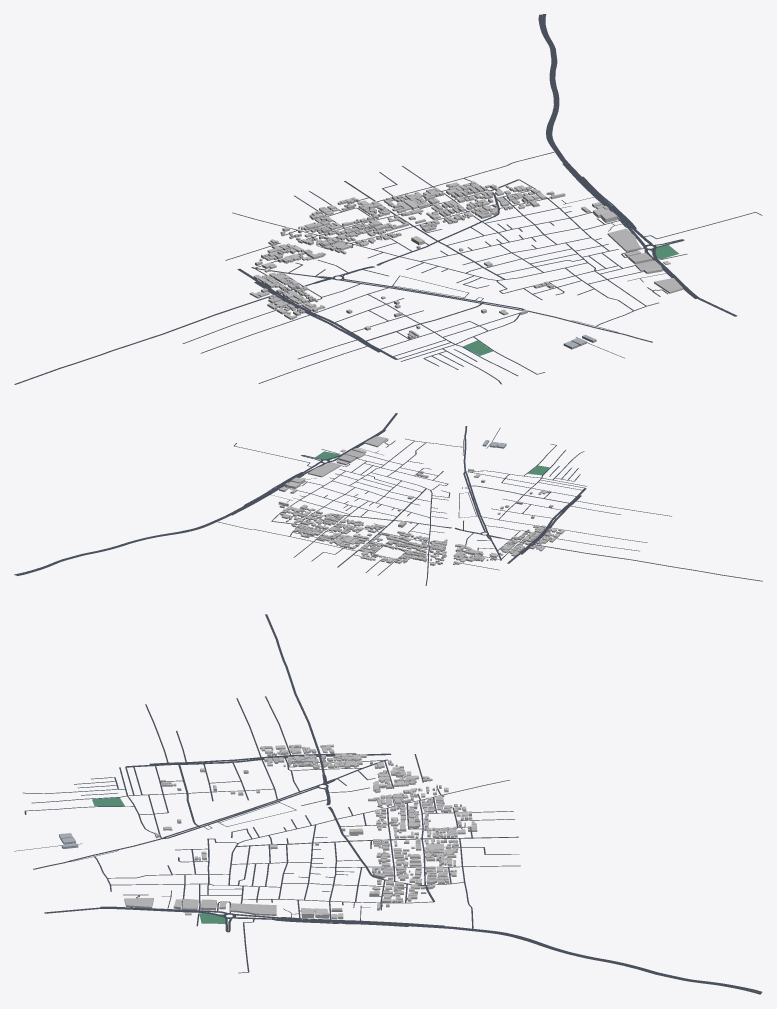
File: city.glb
The picture shows the model from 3 angles, top to bottom: view 1: azimuth 30°, elevation 25°; view 2: azimuth 150°, elevation 25°; view 3: azimuth 270°, elevation 25°; orthographic projection. The views are drawn at different scales.
Visible parts, largest first — view 1: roads, buildings; view 2: roads, buildings; view 3: roads, buildings.
Part boxes in pixels (x1,y1,x2,y2): roads: (14, 14, 762, 384); buildings: (249, 181, 682, 349); roads: (14, 413, 762, 585); buildings: (278, 436, 564, 565); roads: (14, 614, 762, 994); buildings: (59, 744, 477, 919).
Bounding box in the file's own units: 3099 × 15 × 2579.
